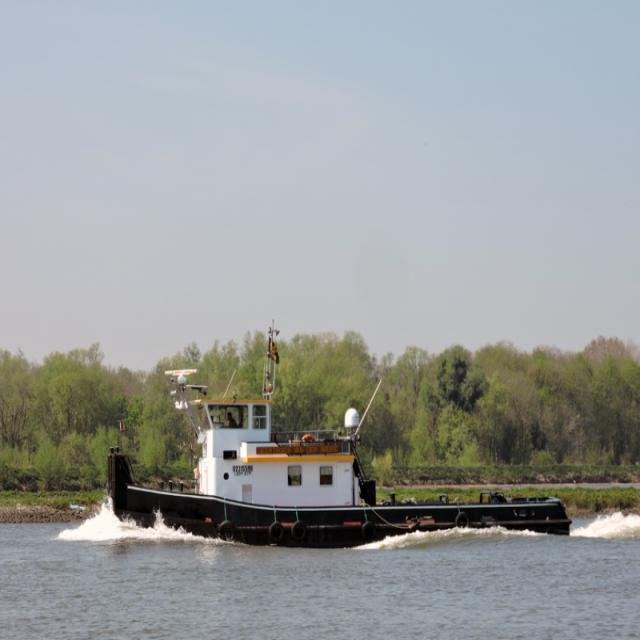tugboat: (103, 362, 586, 555)
